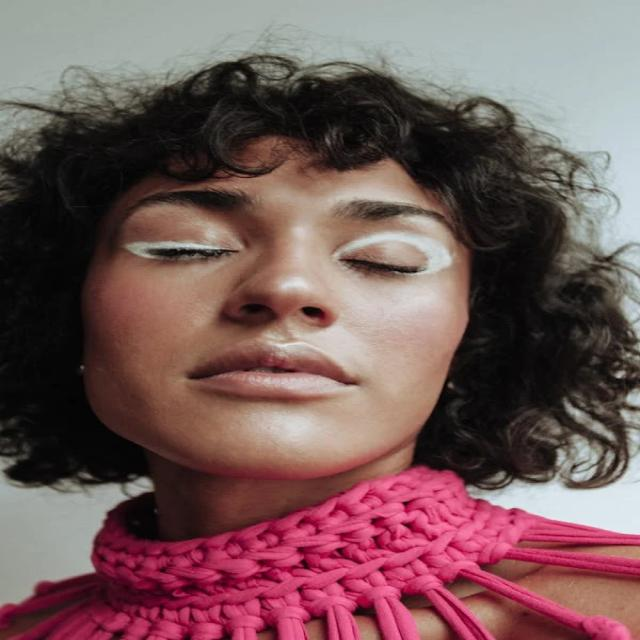no_mask: (60, 148, 478, 486)
